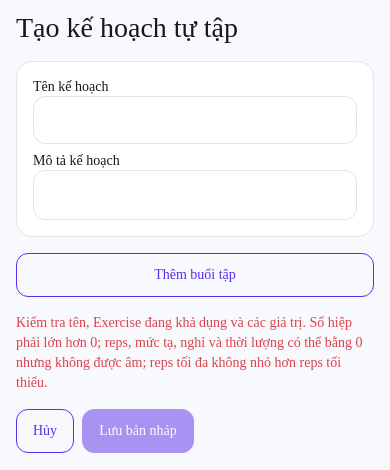
Scenario: B04 Student Workout Plan screens › creates a complete draft snapshot and preserves one command while pending
The image size is (390, 470).
Type "My Plan" into the field named "Tên kế hoạch". click: [195, 120]
box: 33,96 -> 357,144
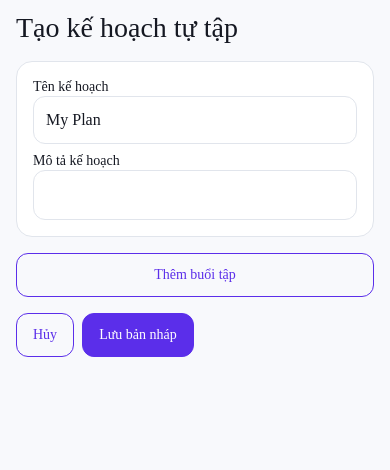
Click the button with test id "save-workout-plan-button". click: [138, 335]
box: 82,313 -> 194,357
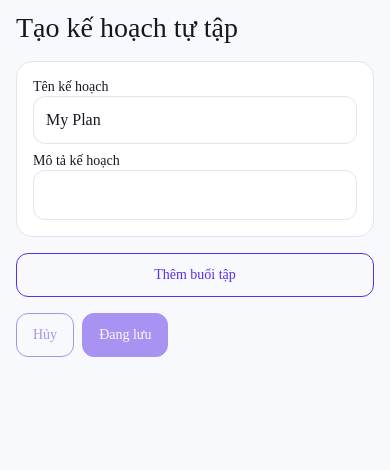
Now the button with test id "save-workout-plan-button" is disabled, box 82,313 -> 168,357
